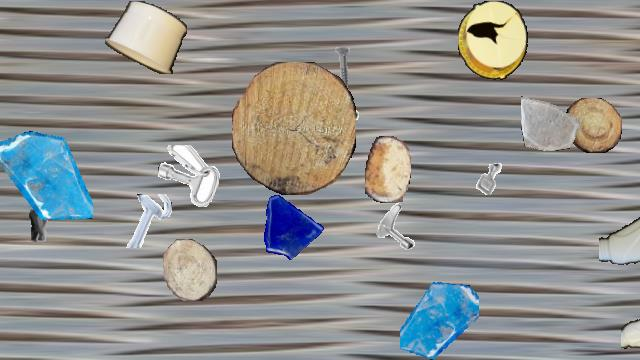glass: (0, 130, 93, 224), (400, 281, 478, 359), (254, 189, 324, 259), (521, 92, 579, 150)
metal: (307, 99, 369, 161), (158, 145, 220, 207), (120, 194, 174, 248), (370, 200, 424, 254), (14, 202, 64, 252), (319, 45, 367, 93), (468, 157, 512, 201)
plastic: (105, 1, 187, 73), (458, 1, 528, 79), (599, 176, 640, 280), (621, 257, 640, 359)
wood: (232, 62, 356, 194), (163, 239, 217, 301), (365, 136, 411, 202), (565, 98, 621, 152)
